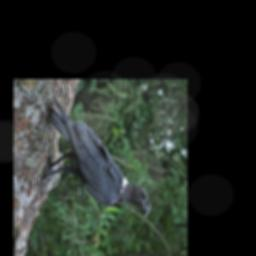Crow: (39, 97, 153, 220)
